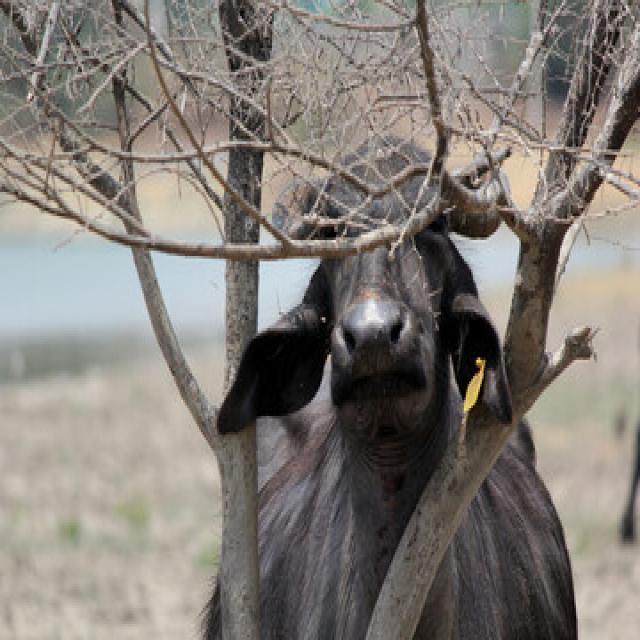Buffalo: (198, 128, 580, 637)
